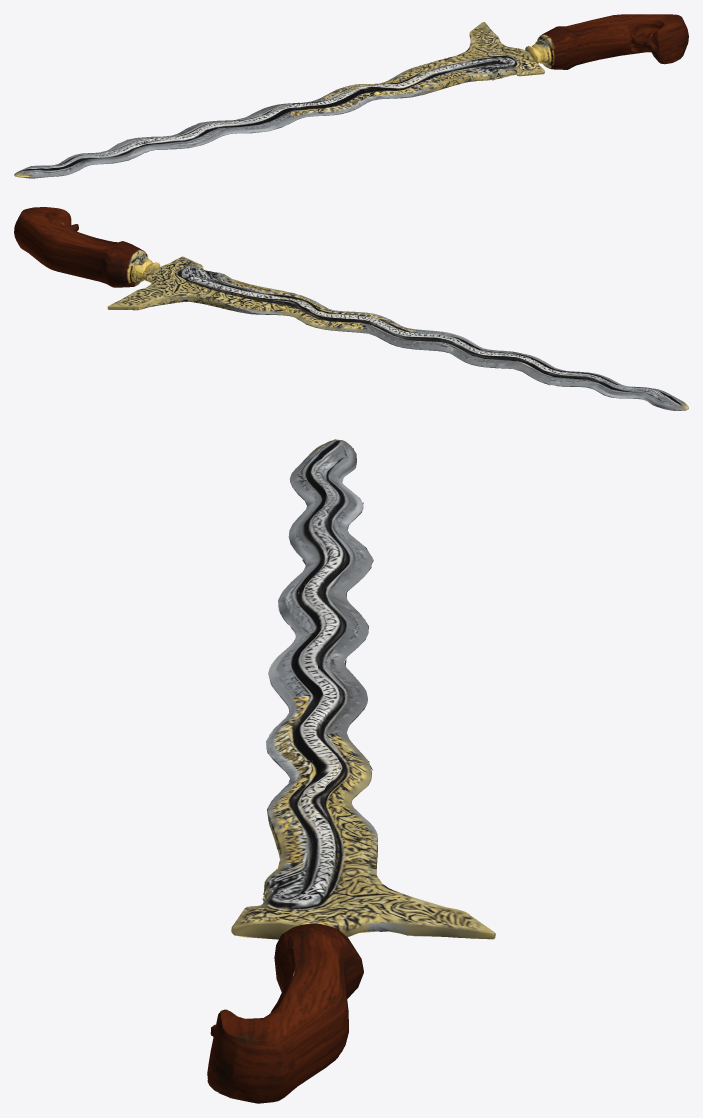
File: Keris.glb
The picture shows the model from 3 angles, top to bottom: view 1: azimuth 30°, elevation 25°; view 2: azimuth 150°, elevation 25°; view 3: azimuth 270°, elevation 25°; orthographic projection. The views are drawn at different scales.
Visible parts, largest first — view 1: node_0; view 2: node_0; view 3: node_0.
Part boxes in pixels (x1,y1,x2,y2): node_0: [14, 14, 688, 178]; node_0: [14, 207, 688, 410]; node_0: [207, 439, 495, 1103].
Bounding box in the file's own units: 1.07 × 0.0633 × 0.2056.
Materials: 1 (1 with a texture image).
